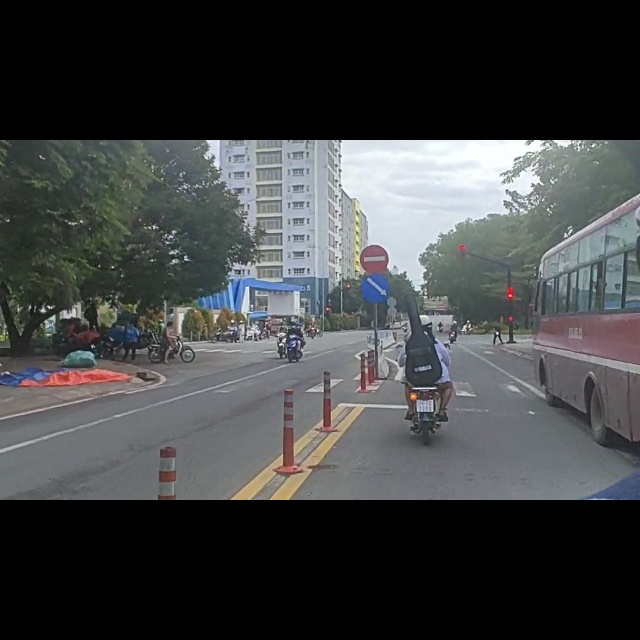bien_cam: (356, 238, 395, 290), (359, 185, 393, 238)
